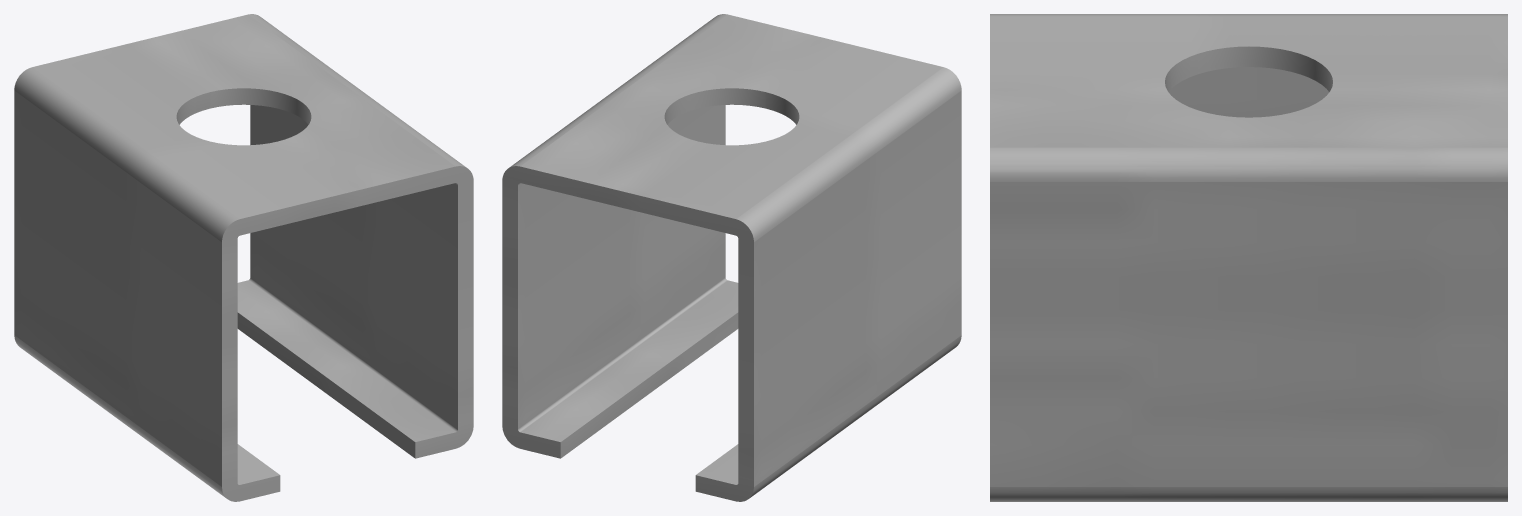
3 renders of one model, left to right at view 1: azimuth 30°, elevation 25°; view 2: azimuth 150°, elevation 25°; view 3: azimuth 270°, elevation 25°, orthographic. The views are drawn at different scales.
Parts seen in each view (by area): view 1: 28_30 K; view 2: 28_30 K; view 3: 28_30 K.
Part boxes in pixels (x1,y1,x2,y2): 28_30 K: (14,14,473,501); 28_30 K: (502,14,961,501); 28_30 K: (990,14,1507,501).
Size of the model in its own units: 28 by 30 by 40.
Materials: 1 (1 with a texture image).
